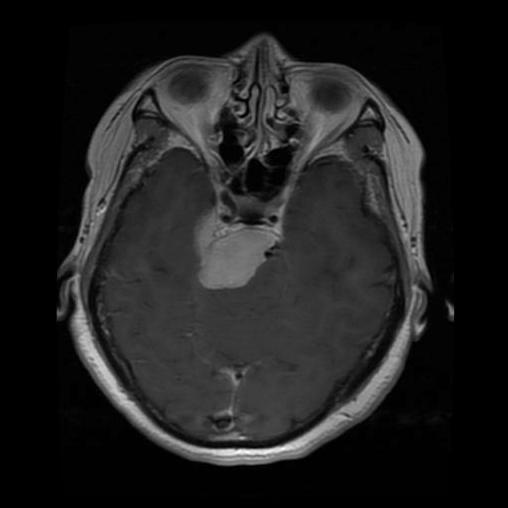Tumour-Pituitary: (175, 214, 314, 303)
